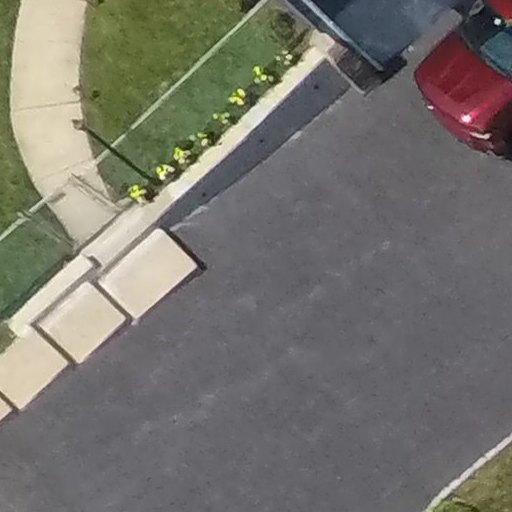flower pot: (170, 143, 204, 167), (246, 68, 277, 91), (227, 89, 257, 110), (206, 112, 237, 132), (194, 123, 216, 150), (123, 187, 152, 207), (147, 164, 176, 183), (272, 50, 300, 69)
